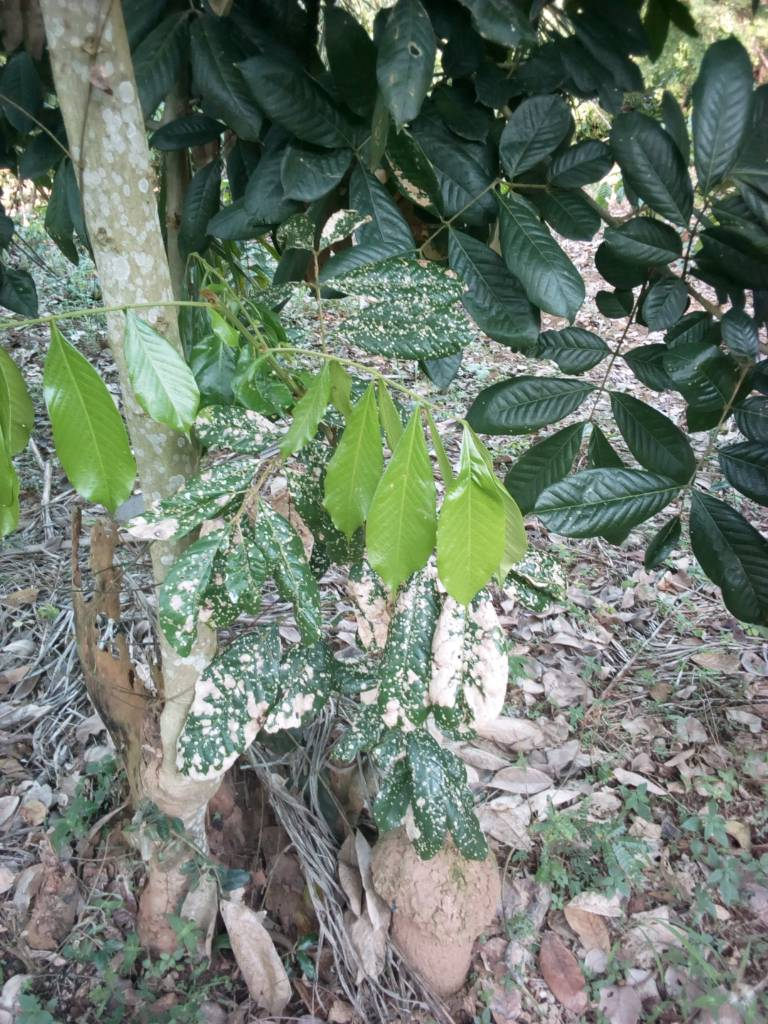Termites: (375, 847, 500, 986)
